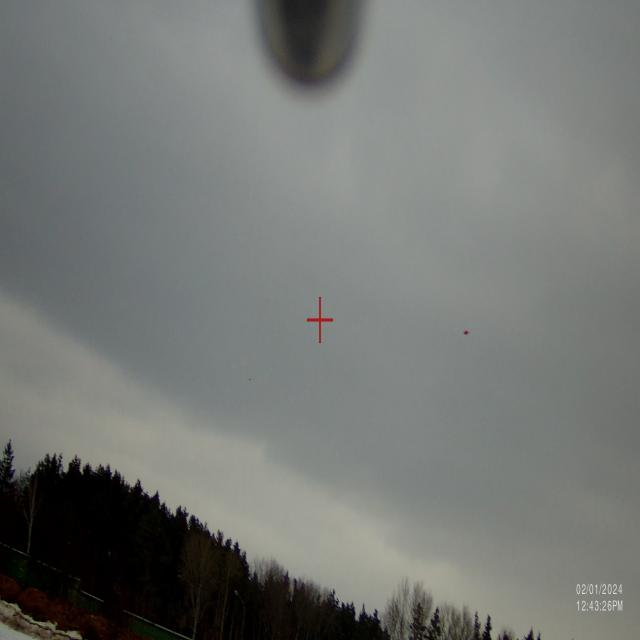entire: (459, 323, 472, 341)
